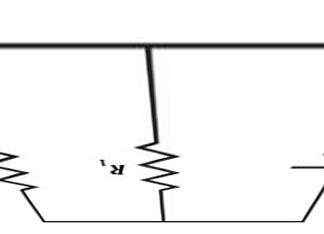resistor: (135, 131, 185, 196), (0, 147, 47, 196)
